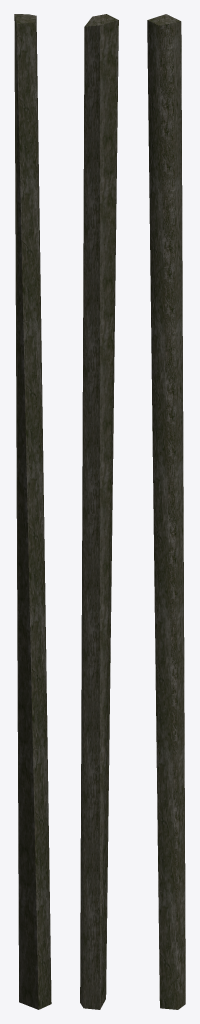
File: TI_L_Branch_03.fbx
The picture shows the model from 3 angles, left to right: view 1: azimuth 30°, elevation 25°; view 2: azimuth 150°, elevation 25°; view 3: azimuth 330°, elevation 25°; orthographic projection.
Visible parts, largest first — view 1: TI_L_Branch_03; view 2: TI_L_Branch_03; view 3: TI_L_Branch_03.
Part boxes in pixels (bbox=[...]): TI_L_Branch_03: bbox=[14, 14, 51, 1009]; TI_L_Branch_03: bbox=[80, 14, 118, 1009]; TI_L_Branch_03: bbox=[147, 14, 185, 1009].
Bounding box in the file's own units: 0.4635 × 13.26 × 0.39.
